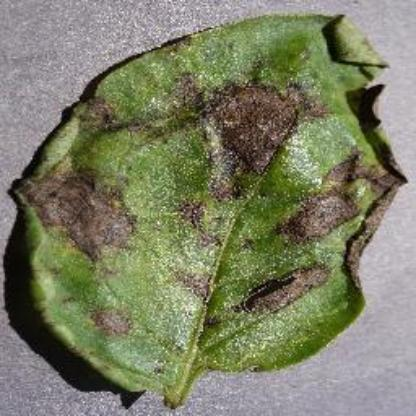Early-Blight: (13, 13, 409, 407)
